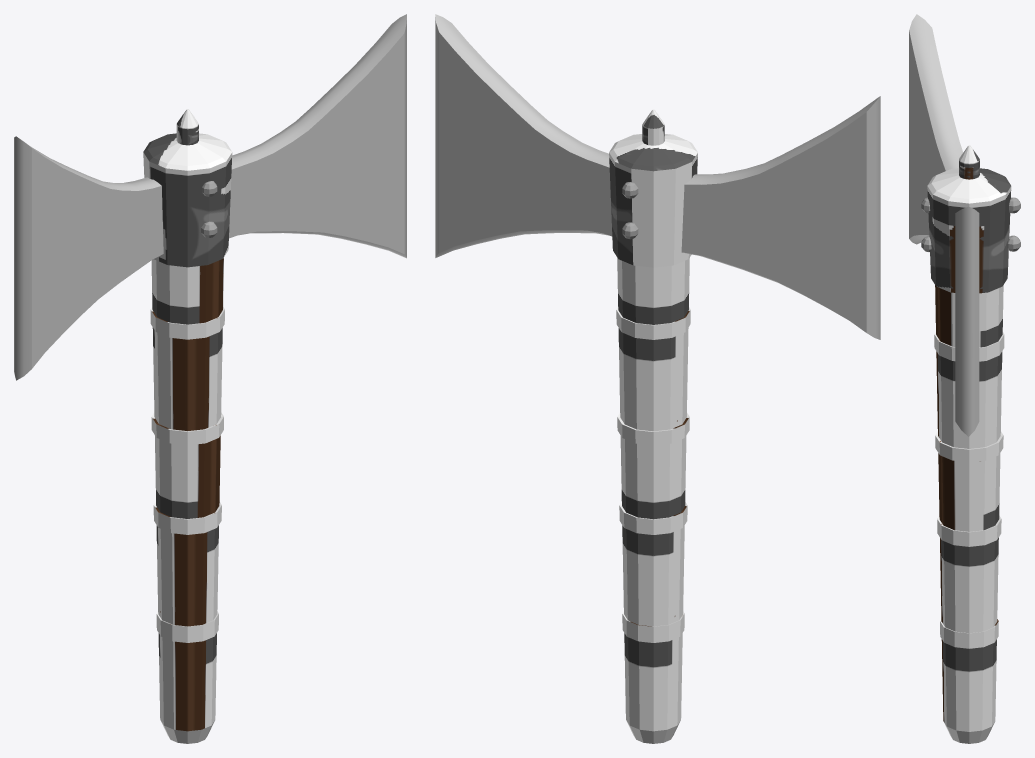
File: Axe.fbx
3 renders of one model, left to right at view 1: azimuth 30°, elevation 25°; view 2: azimuth 150°, elevation 25°; view 3: azimuth 270°, elevation 25°, orthographic. The views are drawn at different scales.
Parts seen in each view (by area): view 1: pCylinder1, pCube1, pasted__pCube1; view 2: pCylinder1, pasted__pCube1, pCube1; view 3: pCylinder1, pasted__pCube1, pCube1.
Part boxes in pixels (left/top/right/bottom): pCylinder1: left=143, top=109, right=232, bottom=743; pCube1: left=229, top=14, right=406, bottom=258; pasted__pCube1: left=14, top=136, right=163, bottom=380; pCylinder1: left=609, top=109, right=697, bottom=743; pasted__pCube1: left=681, top=96, right=880, bottom=339; pCube1: left=435, top=14, right=612, bottom=257; pCylinder1: left=927, top=145, right=1011, bottom=743; pasted__pCube1: left=909, top=14, right=963, bottom=244; pCube1: left=955, top=206, right=979, bottom=436.
Bounding box in the file's own units: 8.75 × 13.35 × 2.14.
